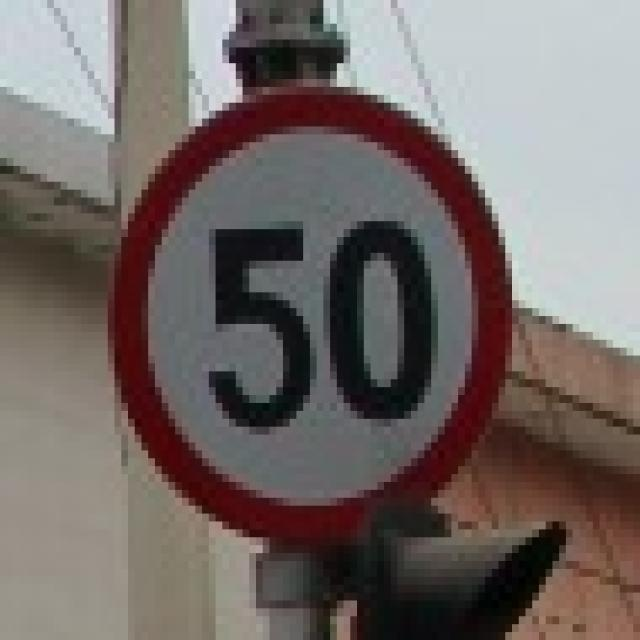Speed Limit -50-: (205, 215, 436, 438)
